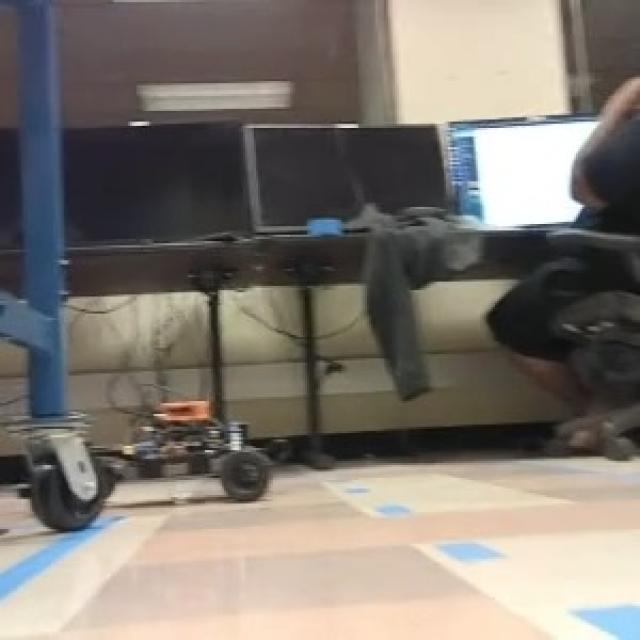obstacle: (96, 402, 272, 503)
